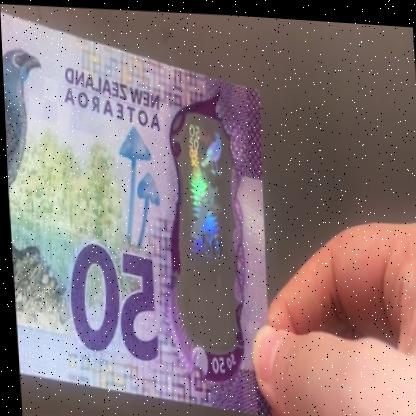50B: (174, 117, 234, 334)
